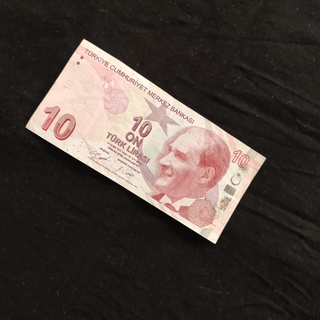10TLFront: (24, 36, 267, 244)
